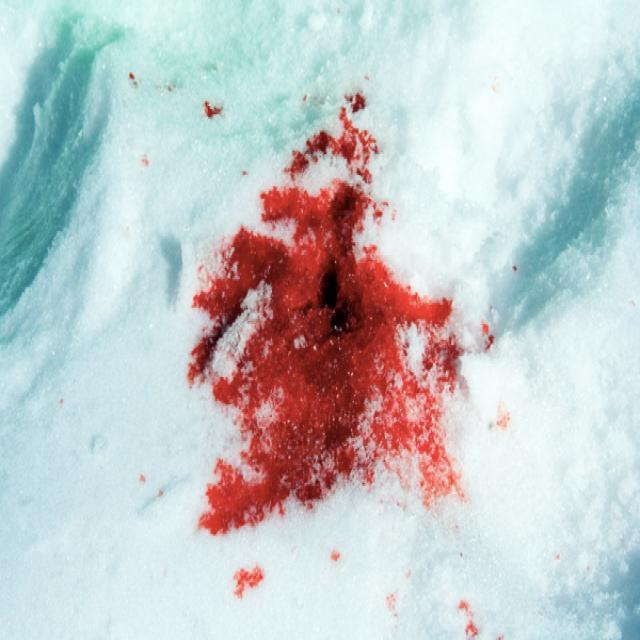wound: (160, 97, 496, 544)
